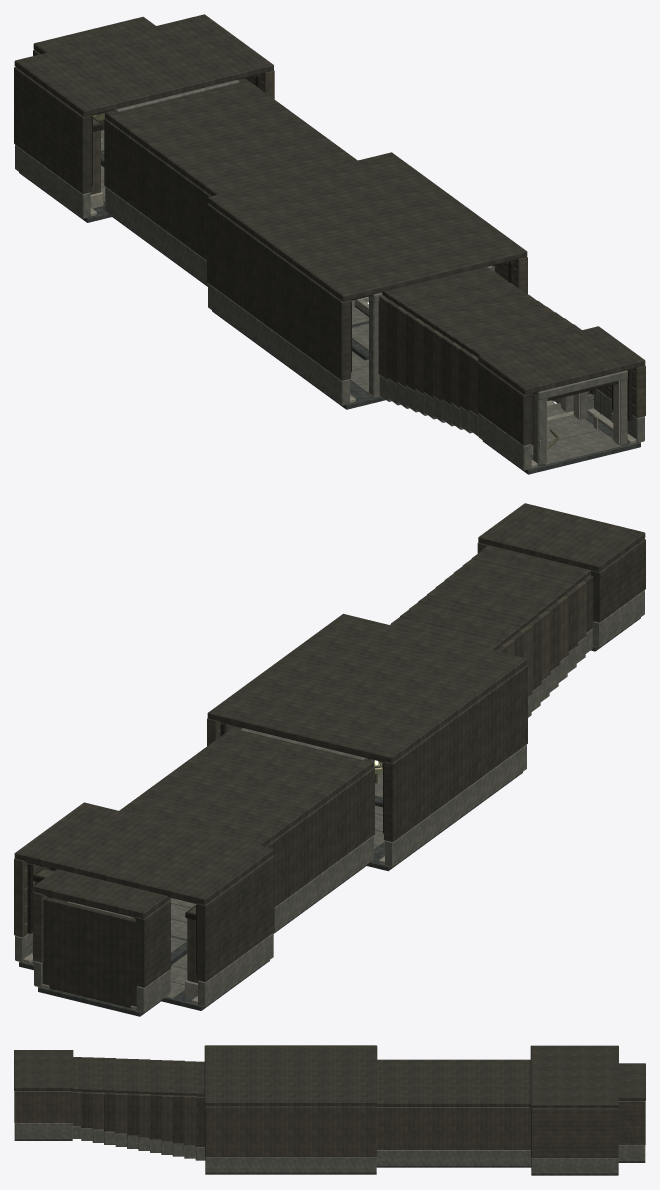
Rendered from buried-mausoleum.glb.
The picture shows the model from 3 angles, top to bottom: view 1: azimuth 30°, elevation 25°; view 2: azimuth 150°, elevation 25°; view 3: azimuth 270°, elevation 25°; orthographic projection. The views are drawn at different scales.
Visible parts, largest first — view 1: EXPORT_ENV_Buried_LampChamber_Rammed_earth_charcoal, EXPORT_ENV_Buried_EvidenceGallery_Rammed_earth_charcoal, EXPORT_ENV_Buried_RoyalHall_Rammed_earth_charcoal, EXPORT_ENV_Buried_Descent_Rammed_earth_charcoal, EXPORT_ENV_Buried_SchoolFold_Rammed_earth_charcoal, EXPORT_ENV_Buried_SchoolFold_Hand_cut_limestone, EXPORT_ENV_Buried_LampChamber_Hand_cut_limestone, EXPORT_ENV_Buried_Descent_Rammed_earth_warm_course, EXPORT_ENV_Buried_RoyalHall_Hand_cut_limestone, EXPORT_ENV_Buried_Descent_Hand_cut_limestone, EXPORT_ENV_Buried_EvidenceGallery_Hand_cut_limestone, EXPORT_ENV_Buried_PixelGate_Rammed_earth_charcoal (+6 smaller); view 2: EXPORT_ENV_Buried_LampChamber_Rammed_earth_charcoal, EXPORT_ENV_Buried_EvidenceGallery_Rammed_earth_charcoal, EXPORT_ENV_Buried_RoyalHall_Rammed_earth_charcoal, EXPORT_ENV_Buried_PixelGate_Rammed_earth_charcoal, EXPORT_ENV_Buried_Descent_Rammed_earth_charcoal, EXPORT_ENV_Buried_SchoolFold_Rammed_earth_charcoal, EXPORT_ENV_Buried_LampChamber_Hand_cut_limestone, EXPORT_ENV_Buried_EvidenceGallery_Hand_cut_limestone, EXPORT_ENV_Buried_RoyalHall_Hand_cut_limestone, EXPORT_ENV_Buried_Descent_Rammed_earth_warm_course, EXPORT_ENV_Buried_RoyalHall_Rammed_earth_warm_course, EXPORT_ENV_Buried_Descent_Hand_cut_limestone (+5 smaller); view 3: EXPORT_ENV_Buried_LampChamber_Rammed_earth_charcoal, BuriedLampChamber right rammed earth wall, EXPORT_ENV_Buried_Descent_Rammed_earth_charcoal, EXPORT_ENV_Buried_EvidenceGallery_Rammed_earth_charcoal, BuriedEvidenceGallery right rammed earth wall, EXPORT_ENV_Buried_RoyalHall_Rammed_earth_charcoal, EXPORT_ENV_Buried_RoyalHall_Rammed_earth_warm_course, EXPORT_ENV_Buried_Descent_Rammed_earth_warm_course, EXPORT_ENV_Buried_LampChamber_Hand_cut_limestone, EXPORT_ENV_Buried_EvidenceGallery_Hand_cut_limestone, EXPORT_ENV_Buried_SchoolFold_Rammed_earth_charcoal, BuriedSchoolFold right rammed earth wall (+9 smaller).
Boxes of the visible parts, x1,y1,x2,y2 form: EXPORT_ENV_Buried_LampChamber_Rammed_earth_charcoal: (207, 152, 527, 380); EXPORT_ENV_Buried_EvidenceGallery_Rammed_earth_charcoal: (104, 78, 357, 260); EXPORT_ENV_Buried_RoyalHall_Rammed_earth_charcoal: (14, 14, 273, 193); EXPORT_ENV_Buried_Descent_Rammed_earth_charcoal: (382, 266, 581, 412); EXPORT_ENV_Buried_SchoolFold_Rammed_earth_charcoal: (477, 326, 645, 445); EXPORT_ENV_Buried_SchoolFold_Hand_cut_limestone: (478, 370, 644, 470); EXPORT_ENV_Buried_LampChamber_Hand_cut_limestone: (208, 265, 494, 405); EXPORT_ENV_Buried_Descent_Rammed_earth_warm_course: (378, 295, 590, 415); EXPORT_ENV_Buried_RoyalHall_Hand_cut_limestone: (15, 79, 239, 218); EXPORT_ENV_Buried_Descent_Hand_cut_limestone: (379, 375, 593, 436); EXPORT_ENV_Buried_EvidenceGallery_Hand_cut_limestone: (105, 186, 208, 285); EXPORT_ENV_Buried_PixelGate_Rammed_earth_charcoal: (33, 16, 155, 130); EXPORT_ENV_Buried_LampChamber_Rammed_earth_charcoal: (207, 613, 527, 842); EXPORT_ENV_Buried_EvidenceGallery_Rammed_earth_charcoal: (119, 727, 374, 907); EXPORT_ENV_Buried_RoyalHall_Rammed_earth_charcoal: (14, 802, 274, 982); EXPORT_ENV_Buried_PixelGate_Rammed_earth_charcoal: (33, 869, 170, 1008); EXPORT_ENV_Buried_Descent_Rammed_earth_charcoal: (390, 545, 593, 690); EXPORT_ENV_Buried_SchoolFold_Rammed_earth_charcoal: (478, 503, 645, 622); EXPORT_ENV_Buried_LampChamber_Hand_cut_limestone: (240, 728, 526, 867); EXPORT_ENV_Buried_EvidenceGallery_Hand_cut_limestone: (171, 835, 373, 937); EXPORT_ENV_Buried_RoyalHall_Hand_cut_limestone: (15, 897, 273, 1006); EXPORT_ENV_Buried_Descent_Rammed_earth_warm_course: (502, 581, 586, 696); EXPORT_ENV_Buried_RoyalHall_Rammed_earth_warm_course: (14, 858, 197, 983); EXPORT_ENV_Buried_Descent_Hand_cut_limestone: (528, 629, 592, 717); EXPORT_ENV_Buried_LampChamber_Rammed_earth_charcoal: (204, 1045, 377, 1106); BuriedLampChamber right rammed earth wall: (205, 1106, 376, 1156); EXPORT_ENV_Buried_Descent_Rammed_earth_charcoal: (73, 1057, 204, 1147); EXPORT_ENV_Buried_EvidenceGallery_Rammed_earth_charcoal: (377, 1059, 530, 1106); BuriedEvidenceGallery right rammed earth wall: (377, 1107, 530, 1149); EXPORT_ENV_Buried_RoyalHall_Rammed_earth_charcoal: (530, 1045, 618, 1108); EXPORT_ENV_Buried_RoyalHall_Rammed_earth_warm_course: (531, 1108, 618, 1157); EXPORT_ENV_Buried_Descent_Rammed_earth_warm_course: (72, 1091, 196, 1145); EXPORT_ENV_Buried_LampChamber_Hand_cut_limestone: (205, 1157, 376, 1172); EXPORT_ENV_Buried_EvidenceGallery_Hand_cut_limestone: (376, 1150, 531, 1165); EXPORT_ENV_Buried_SchoolFold_Rammed_earth_charcoal: (14, 1050, 73, 1090); BuriedSchoolFold right rammed earth wall: (14, 1091, 72, 1123).
Bounding box in the file's own units: 16.32 × 10.03 × 72.9.
16 materials, 10 textured.
